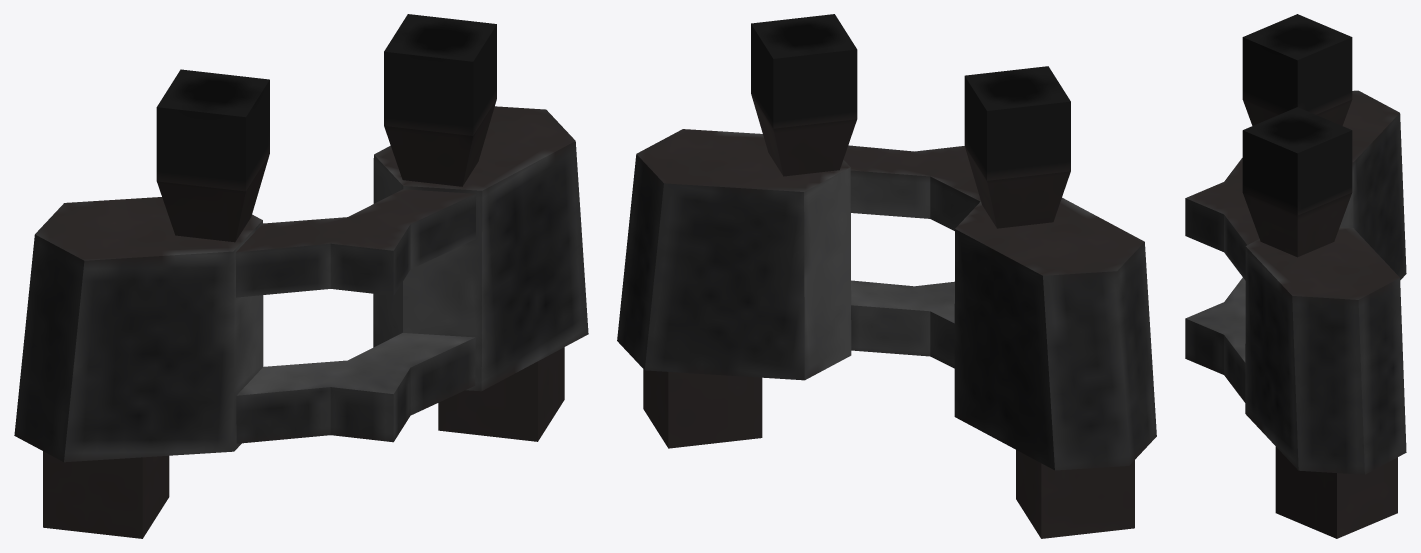
File: german_field_binoculars_physical.glb
The picture shows the model from 3 angles, left to right: view 1: azimuth 30°, elevation 25°; view 2: azimuth 150°, elevation 25°; view 3: azimuth 270°, elevation 25°; orthographic projection. The views are drawn at different scales.
Parts seen in each view (by area): view 1: German_Field_Binoculars_Physical; view 2: German_Field_Binoculars_Physical; view 3: German_Field_Binoculars_Physical.
Boxes of the visible parts, bbox=[...] form: German_Field_Binoculars_Physical: bbox=[14, 14, 588, 538]; German_Field_Binoculars_Physical: bbox=[617, 14, 1156, 538]; German_Field_Binoculars_Physical: bbox=[1185, 14, 1406, 538].
Bounding box in the file's own units: 0.1875 × 0.1365 × 0.0785.
1 material, 1 textured.
